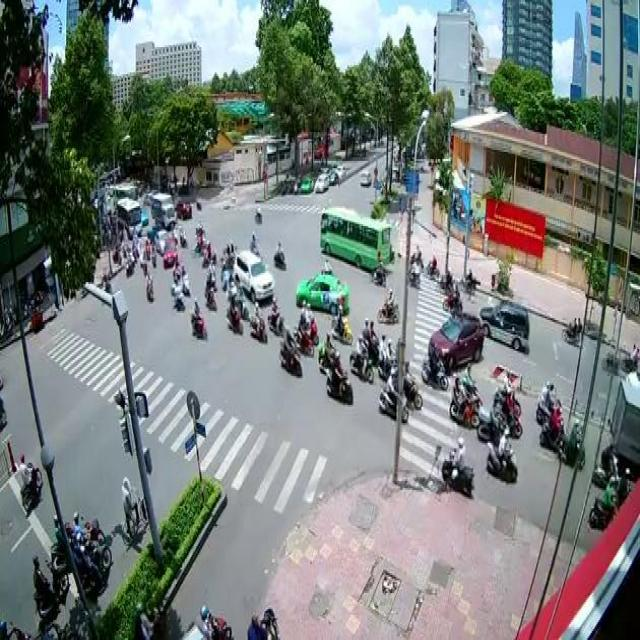bus: (319, 202, 391, 268)
car: (428, 311, 483, 369), (476, 300, 528, 349), (294, 273, 348, 316), (233, 250, 275, 304)
motorcycle: (442, 434, 474, 492), (486, 427, 517, 482), (324, 347, 352, 403), (17, 450, 42, 510), (277, 324, 302, 374), (348, 334, 374, 382), (420, 347, 448, 391), (375, 286, 398, 320), (190, 295, 204, 336)
